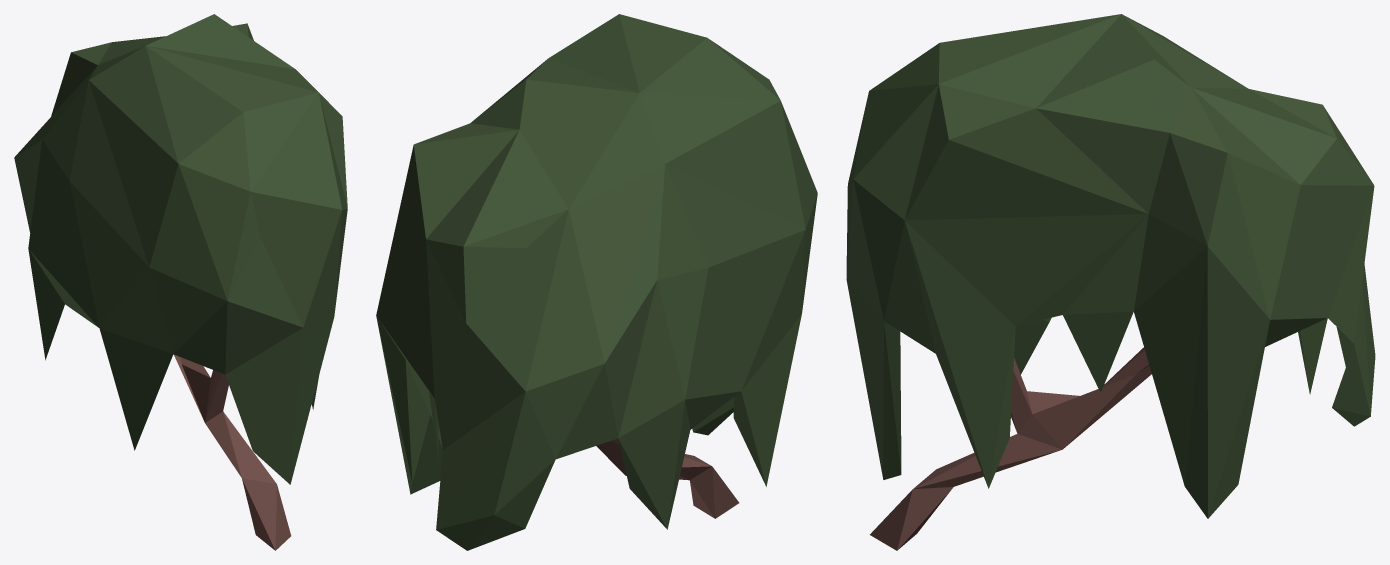
The model's file is Willow_2.lod3.glb.
3 views of the same model, side by side, from view 1: azimuth 30°, elevation 25°; view 2: azimuth 150°, elevation 25°; view 3: azimuth 270°, elevation 25° (orthographic). The views are drawn at different scales.
Parts seen in each view (by area): view 1: Willow_2; view 2: Willow_2; view 3: Willow_2.
Boxes of the visible parts, left/top/right/bottom form: Willow_2: left=14, top=14, right=347, bottom=550; Willow_2: left=376, top=14, right=817, bottom=550; Willow_2: left=846, top=14, right=1375, bottom=550.
Bounding box in the file's own units: 1.94 × 3.29 × 3.1.
